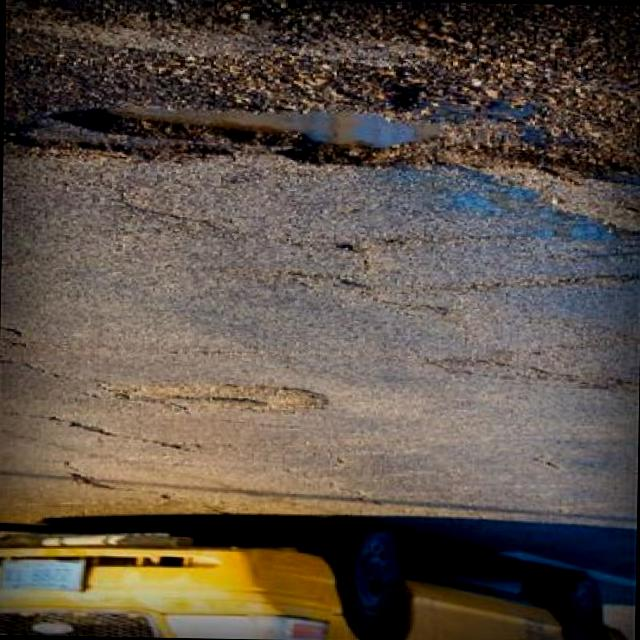pothole: (57, 96, 444, 186)
